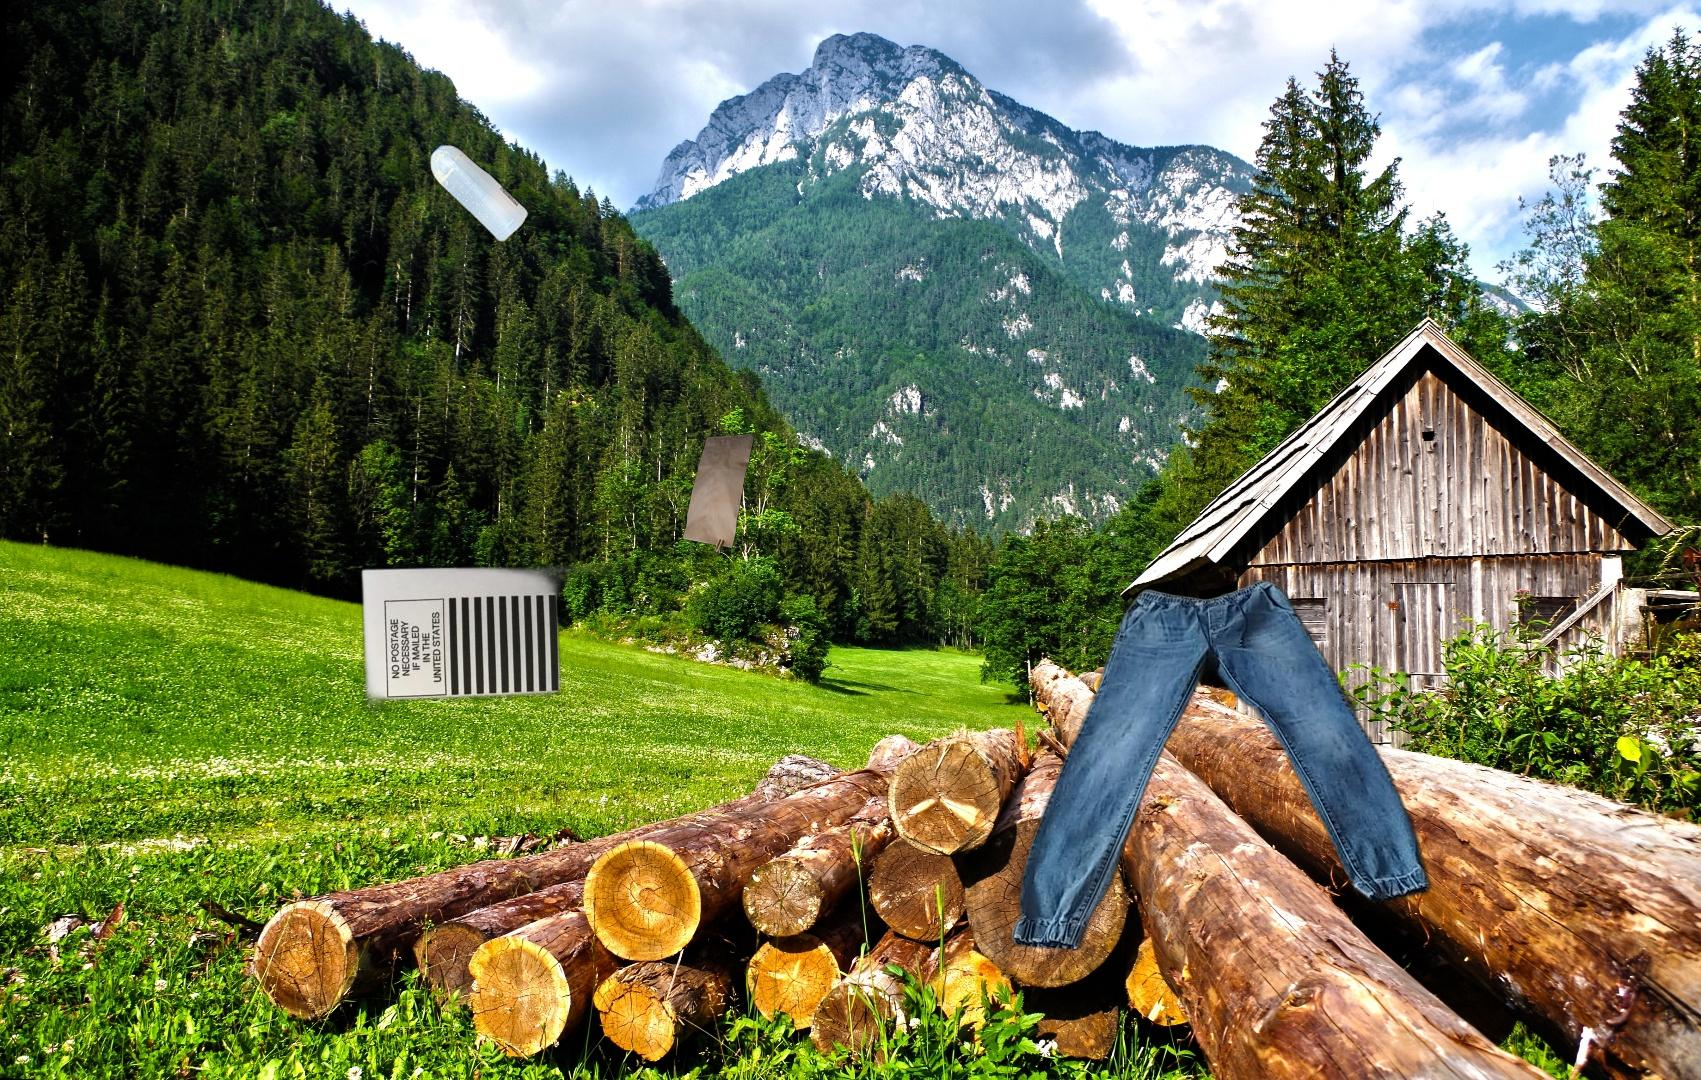clothes: (1005, 577, 1438, 954)
paper: (357, 557, 712, 719)
paper-bag: (679, 430, 759, 557)
plastic-bottles: (426, 139, 552, 248)
